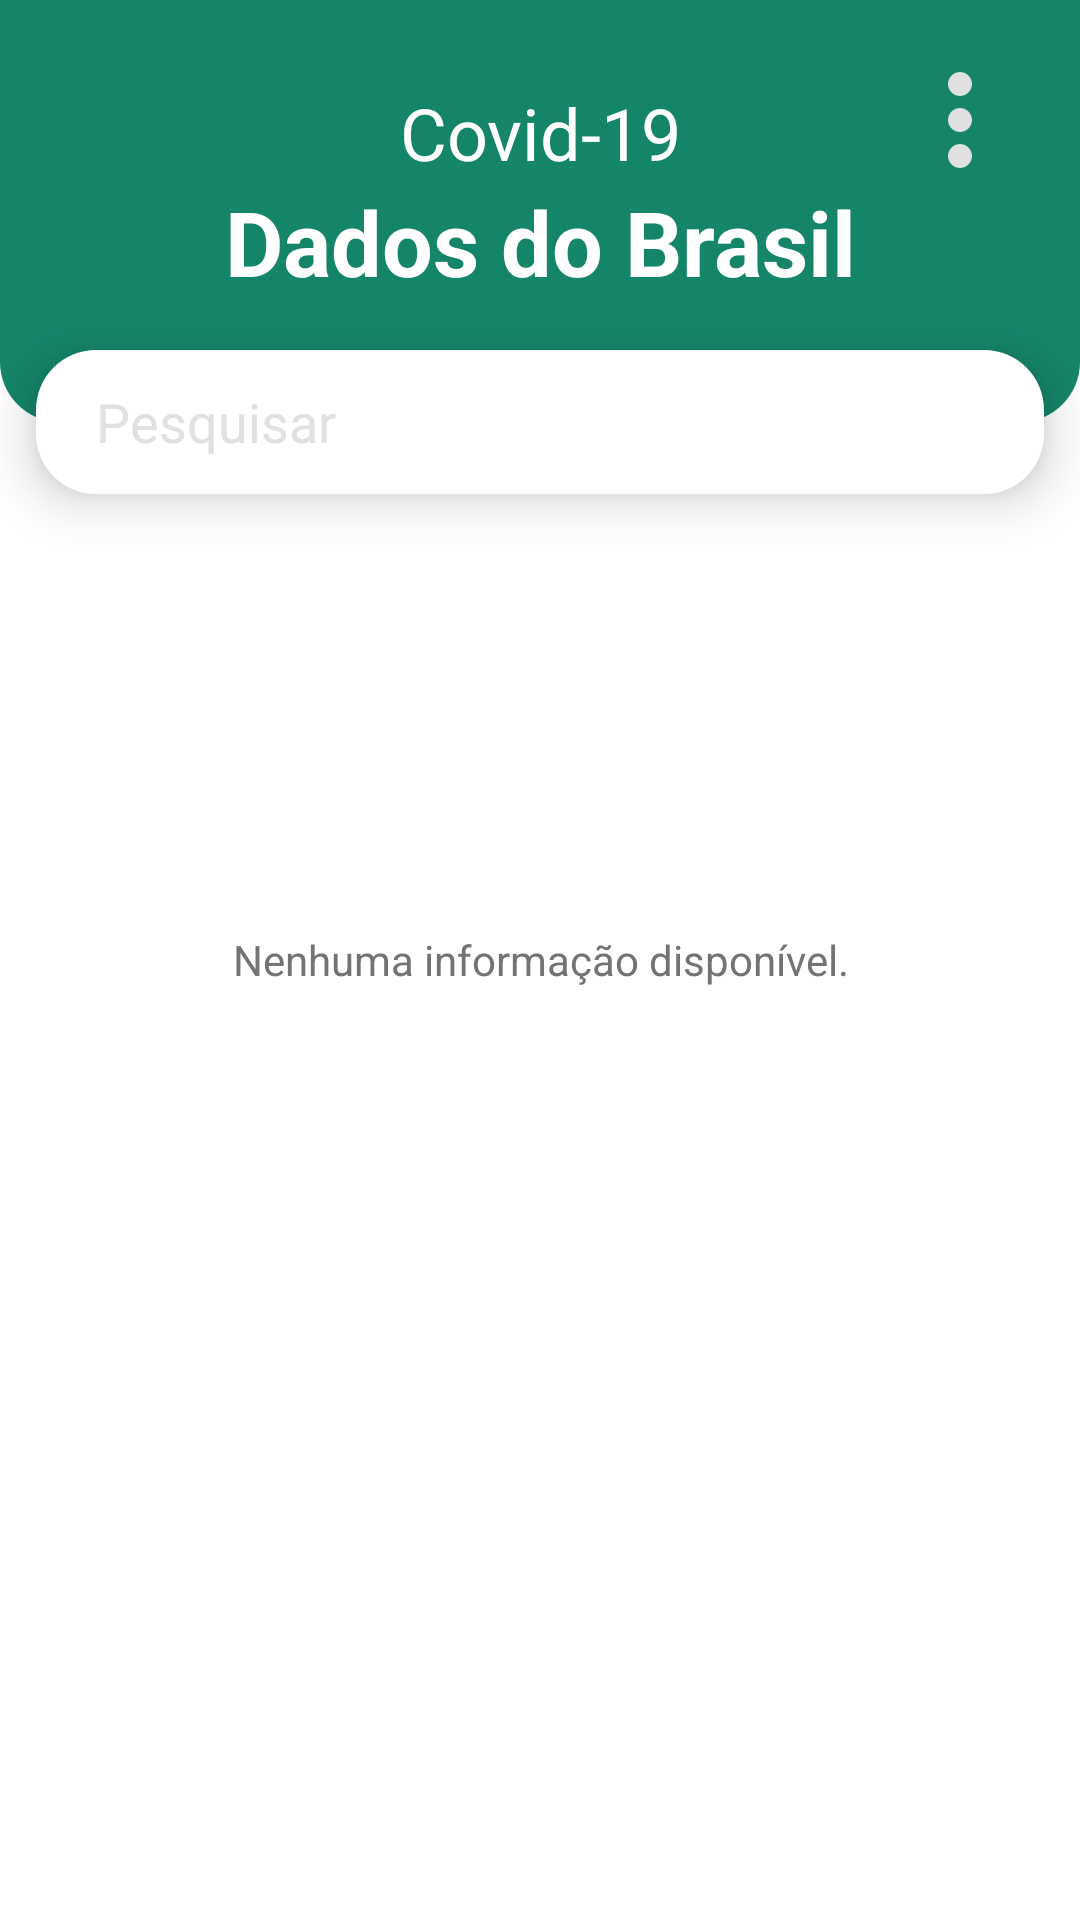

Icons on this 1080 x 1920 Android screen, each with its box as [left=x1, top=y1, right=x2, bottom=y2]:
Mais opções: [left=948, top=72, right=972, bottom=168]
